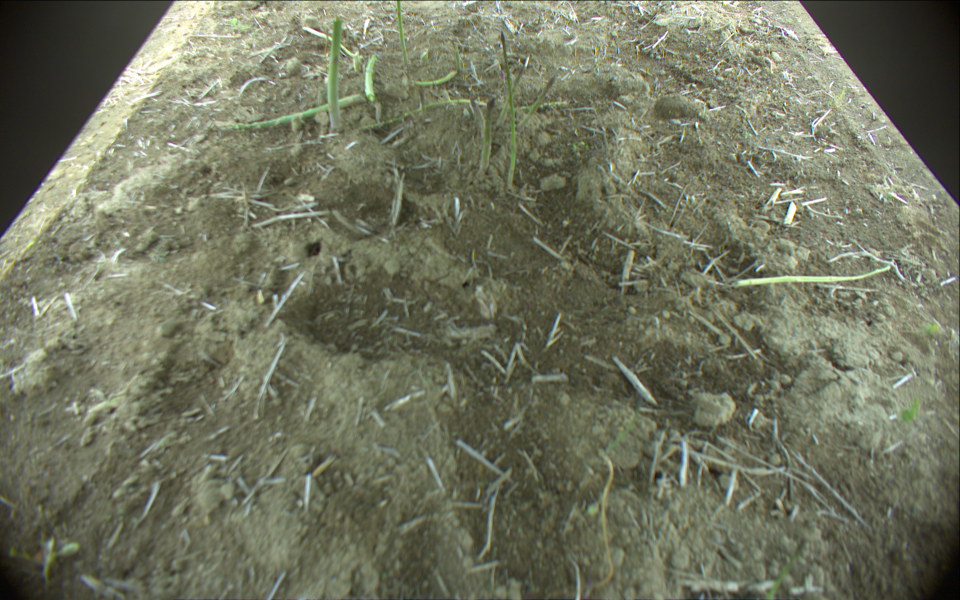aspa: (202, 90, 367, 132), (731, 263, 892, 293), (348, 98, 488, 127), (497, 31, 519, 186), (304, 26, 360, 63), (516, 78, 555, 131), (394, 1, 415, 87), (329, 15, 342, 132), (482, 98, 496, 182), (413, 70, 457, 87), (364, 56, 376, 100), (526, 100, 566, 109)
